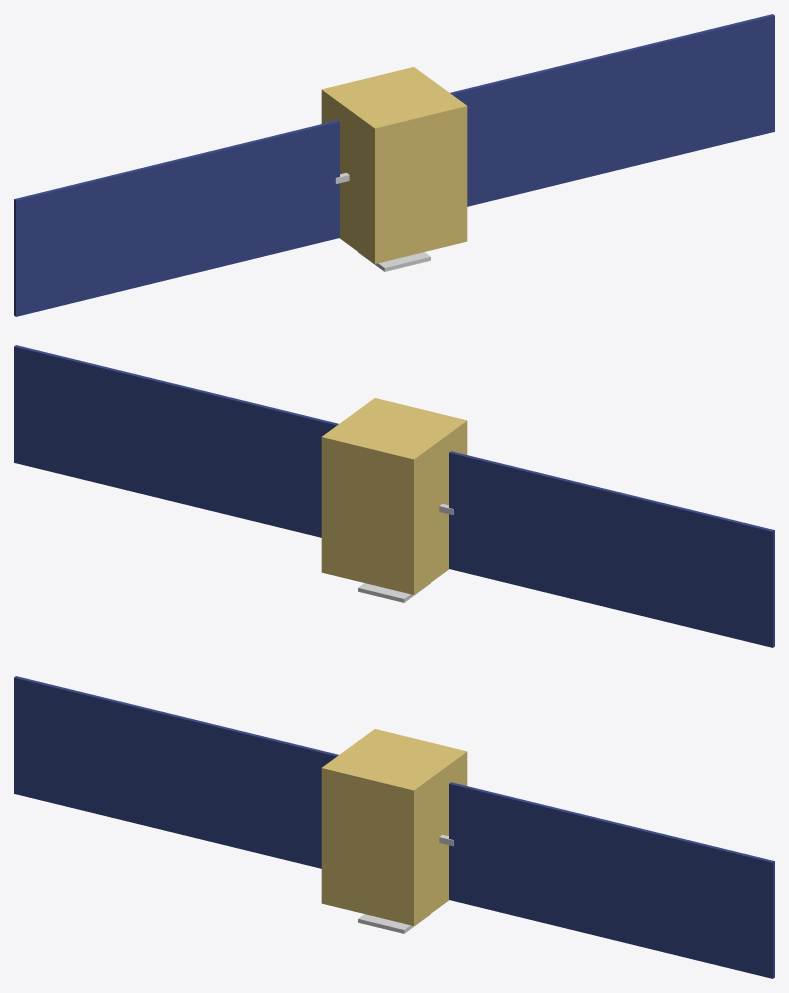
Rendered from generic.glb.
3 views of the same model, one above another, from view 1: azimuth 30°, elevation 25°; view 2: azimuth 150°, elevation 25°; view 3: azimuth 330°, elevation 25° (orthographic).
Visible parts, largest first — view 1: GenericSatellite; view 2: GenericSatellite; view 3: GenericSatellite.
Boxes of the visible parts, bbox=[...] form: GenericSatellite: bbox=[14, 14, 774, 316]; GenericSatellite: bbox=[14, 345, 774, 647]; GenericSatellite: bbox=[14, 676, 774, 978].
Bounding box in the file's own units: 8.2 × 1.64 × 1.
